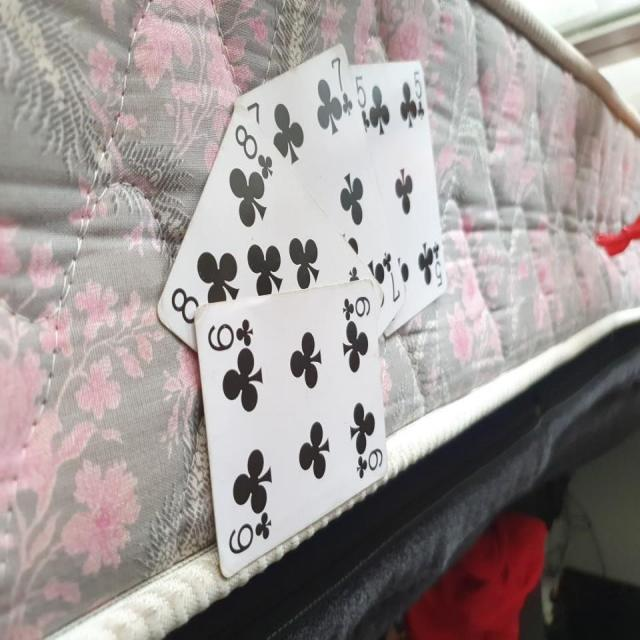5 Trefoils: (349, 52, 448, 338)
6 Trefoils: (193, 280, 390, 580)
7 Trefoils: (232, 43, 408, 330)
8 Trefoils: (153, 104, 386, 350)
